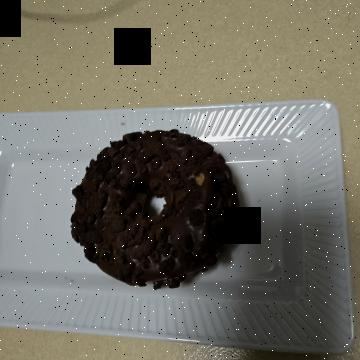doughnut: (135, 117, 316, 308)
